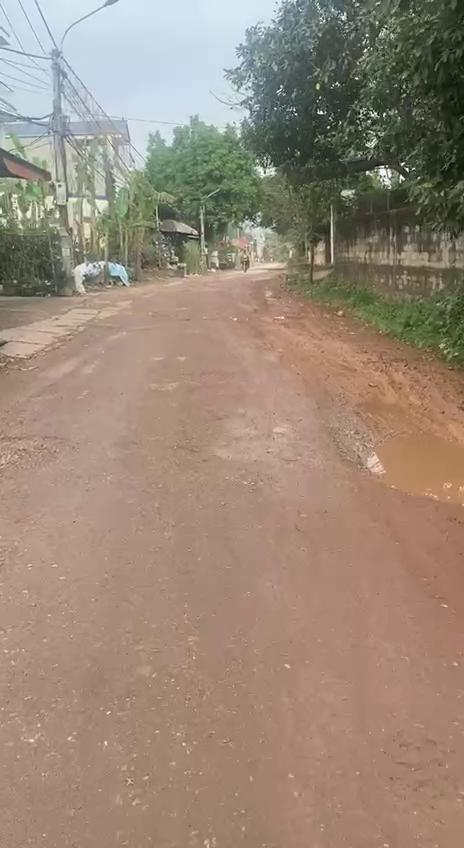pothole: (342, 423, 464, 503), (0, 428, 87, 477)
